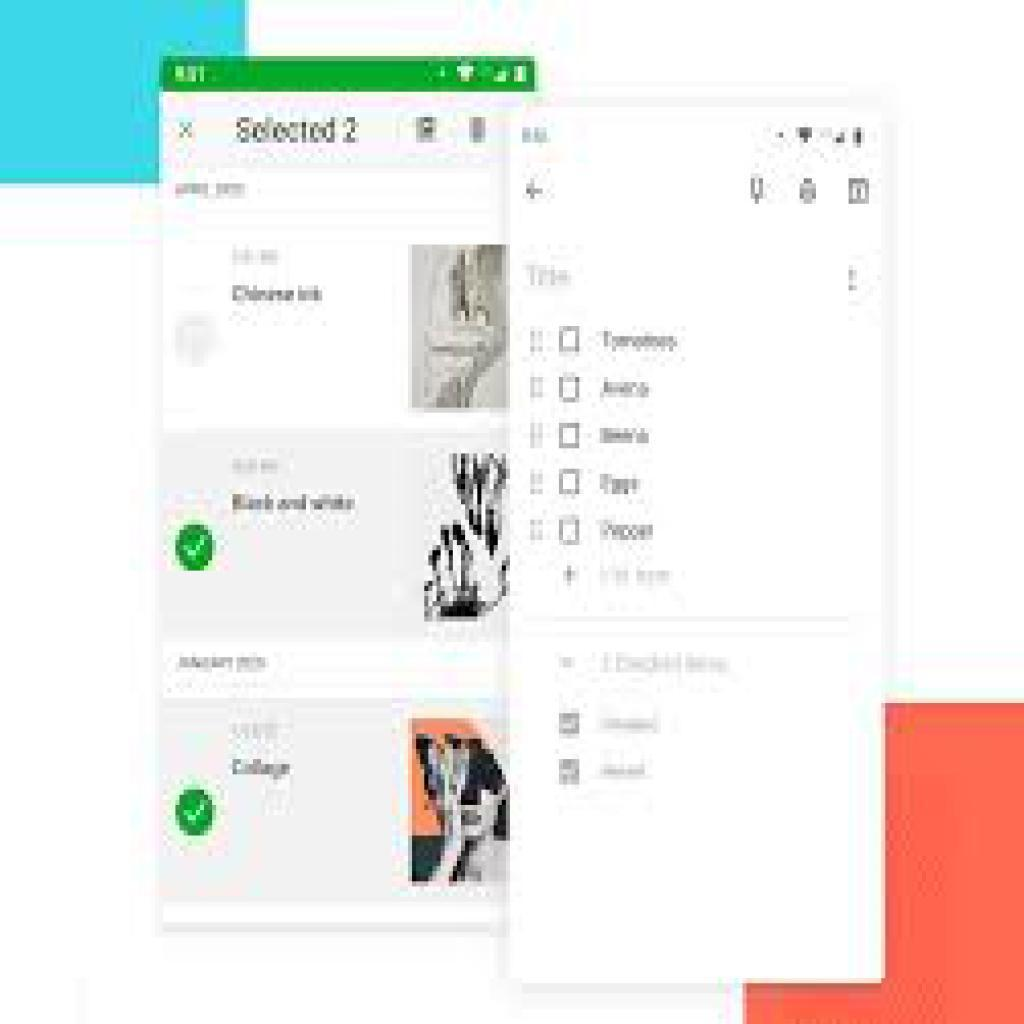checkbox: (557, 513, 583, 548), (558, 374, 582, 405), (559, 468, 583, 499), (558, 421, 582, 451), (559, 324, 581, 355)
icon: (797, 175, 823, 209), (847, 174, 873, 208), (522, 176, 548, 203), (747, 174, 768, 207)
radio: (174, 786, 217, 841), (176, 521, 218, 574)
